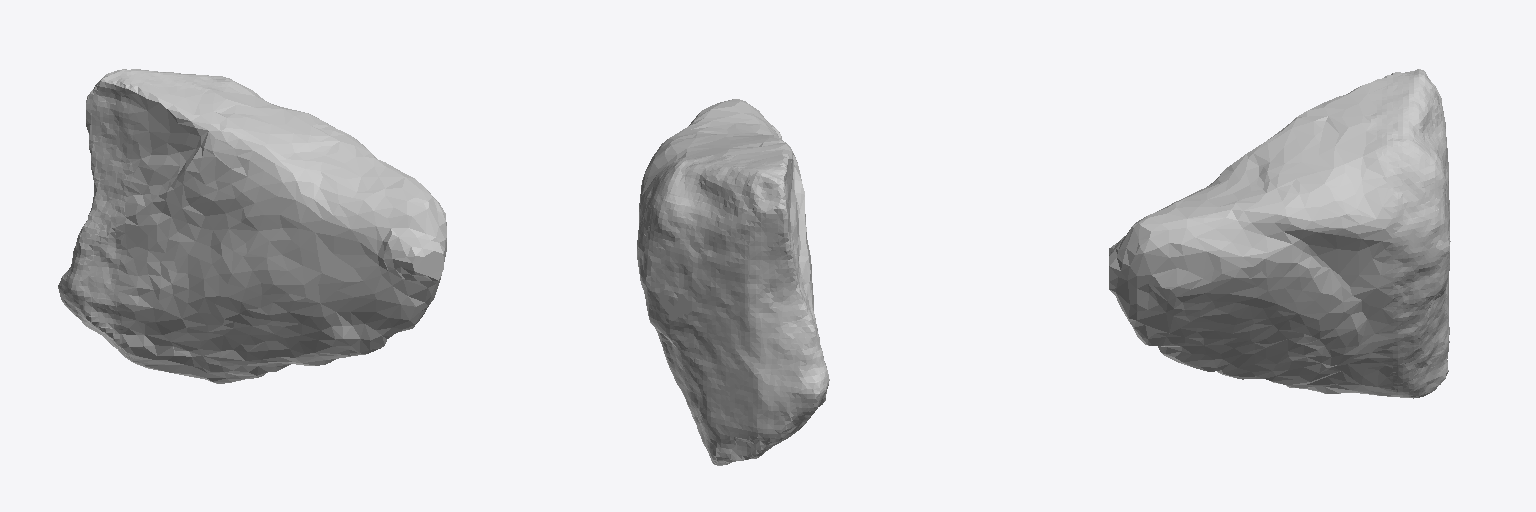
File: sp1_com.obj
The picture shows the model from 3 angles: view 1: azimuth 30°, elevation 25°; view 2: azimuth 150°, elevation 25°; view 3: azimuth 270°, elevation 25°; orthographic projection.
Visible parts, largest first — view 1: FinalOrientedMesh_Spec1.obj; view 2: FinalOrientedMesh_Spec1.obj; view 3: FinalOrientedMesh_Spec1.obj.
Boxes of the visible parts, x1,y1,x2,y2 form: FinalOrientedMesh_Spec1.obj: [58, 69, 446, 383]; FinalOrientedMesh_Spec1.obj: [637, 99, 829, 465]; FinalOrientedMesh_Spec1.obj: [1109, 69, 1450, 398].
Bounding box in the file's own units: 6698 × 7679 × 7902.